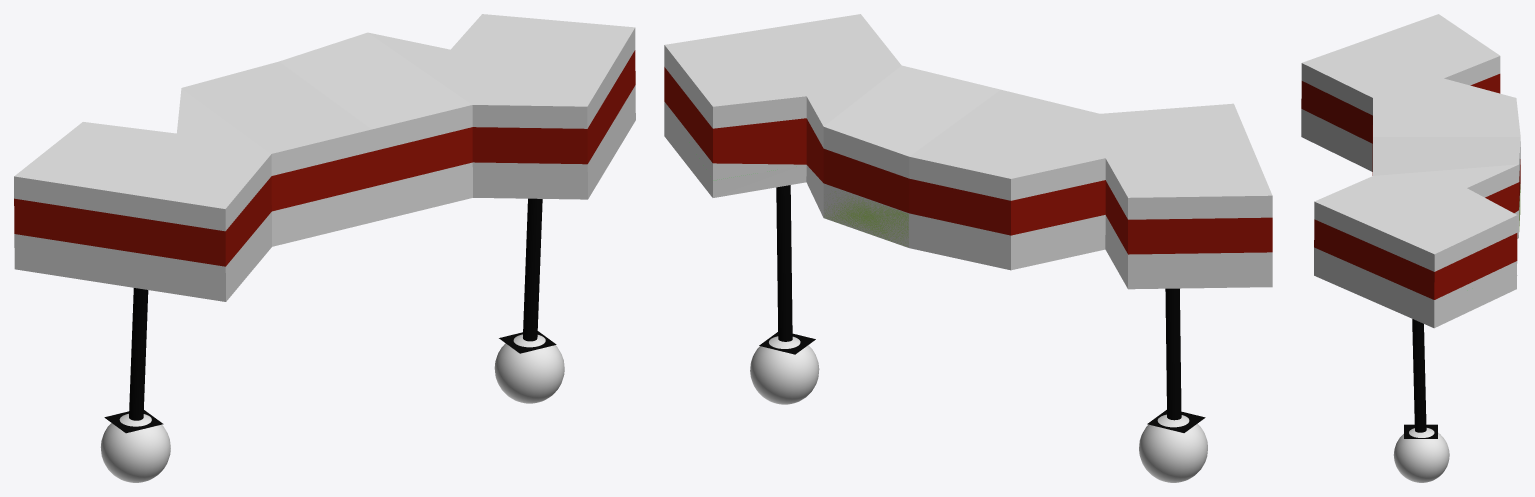
The model's file is Buntitled.fbx.
The picture shows the model from 3 angles, left to right: view 1: azimuth 30°, elevation 25°; view 2: azimuth 150°, elevation 25°; view 3: azimuth 270°, elevation 25°; orthographic projection. The views are drawn at different scales.
Visible parts, largest first — view 1: Cube.006, Sphere, Sphere.001, BezierCurve, BezierCurve.002; view 2: Cube.006, Sphere, Sphere.001, BezierCurve, BezierCurve.002; view 3: Cube.006, Sphere, BezierCurve, Plane.001.
Boxes of the visible parts, bbox=[...] form: Cube.006: bbox=[14, 14, 635, 301]; Sphere: bbox=[494, 334, 564, 403]; Sphere.001: bbox=[100, 413, 170, 482]; BezierCurve: bbox=[523, 198, 542, 341]; BezierCurve.002: bbox=[129, 288, 148, 420]; Cube.006: bbox=[664, 14, 1272, 289]; Sphere: bbox=[750, 336, 819, 404]; Sphere.001: bbox=[1139, 414, 1207, 482]; BezierCurve: bbox=[776, 185, 792, 341]; BezierCurve.002: bbox=[1165, 288, 1181, 420]; Cube.006: bbox=[1301, 14, 1520, 328]; Sphere: bbox=[1393, 428, 1449, 482]; BezierCurve: bbox=[1412, 319, 1426, 432]; Plane.001: bbox=[1404, 424, 1437, 438].
Bounding box in the file's own units: 4277 × 2296 × 1650.
